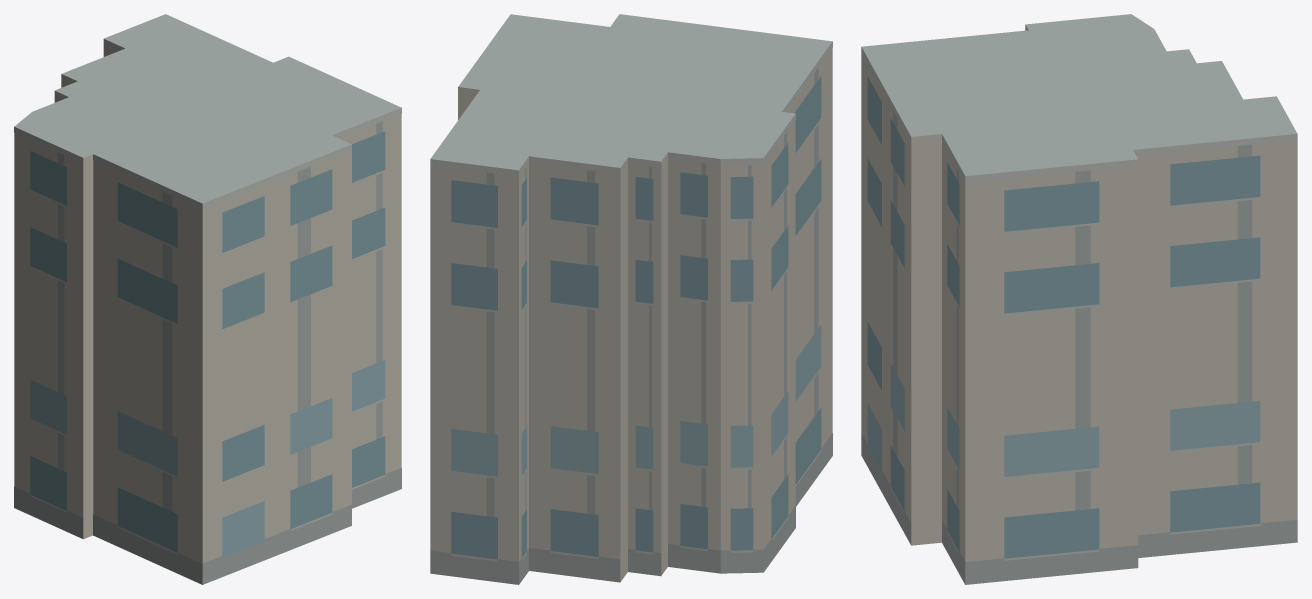
File: survey-upis-32547574.glb
The picture shows the model from 3 angles, left to right: view 1: azimuth 30°, elevation 25°; view 2: azimuth 150°, elevation 25°; view 3: azimuth 270°, elevation 25°; orthographic projection. The views are drawn at different scales.
Parts seen in each view (by area): view 1: survey-upis-32547574.tmp; view 2: survey-upis-32547574.tmp; view 3: survey-upis-32547574.tmp.
Boxes of the visible parts, x1,y1,x2,y2 form: survey-upis-32547574.tmp: (14, 14, 401, 584); survey-upis-32547574.tmp: (430, 14, 832, 584); survey-upis-32547574.tmp: (861, 14, 1297, 584).
Size of the model in its own units: 13.46 by 15.8 by 15.29.
